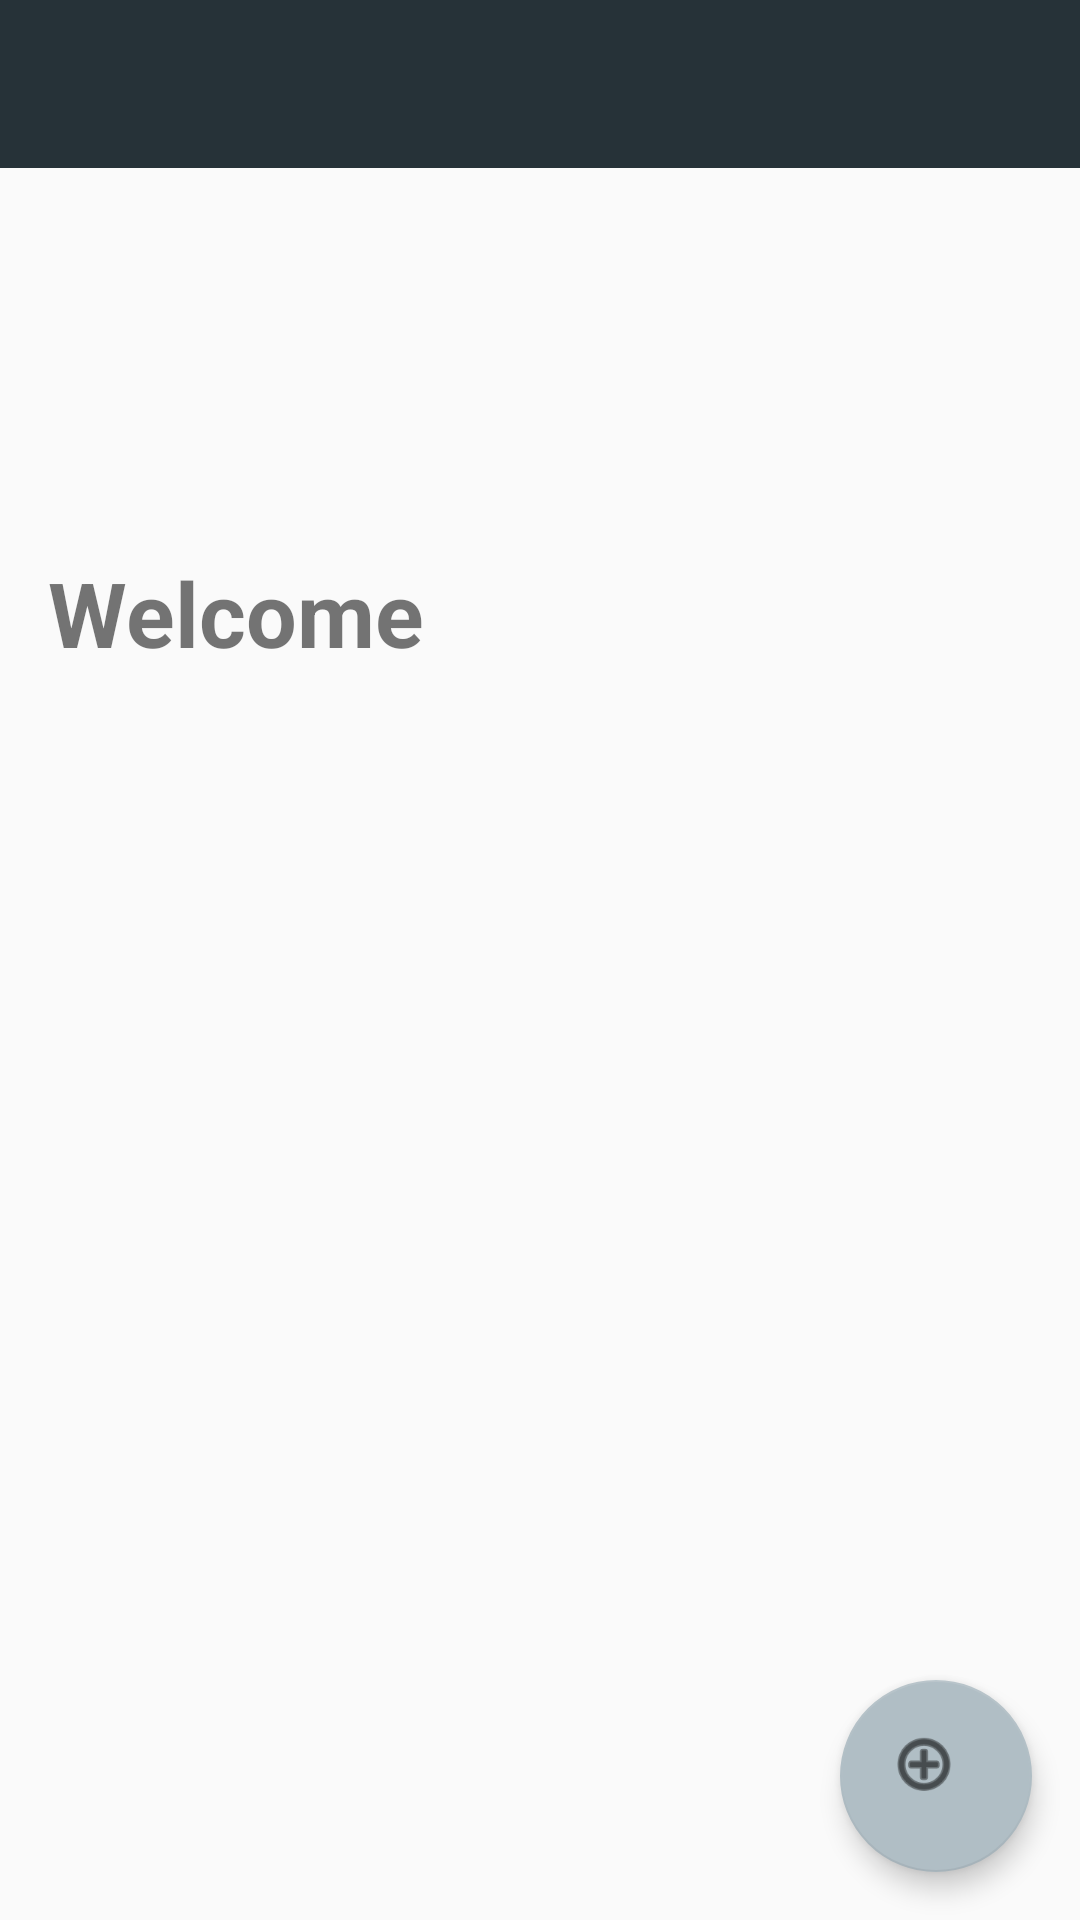

Locate icon controls on the screen. Image size 1080w x 1920h, boxes as (x1, y1, x2, y2).
add: (840, 1680, 1032, 1872)
